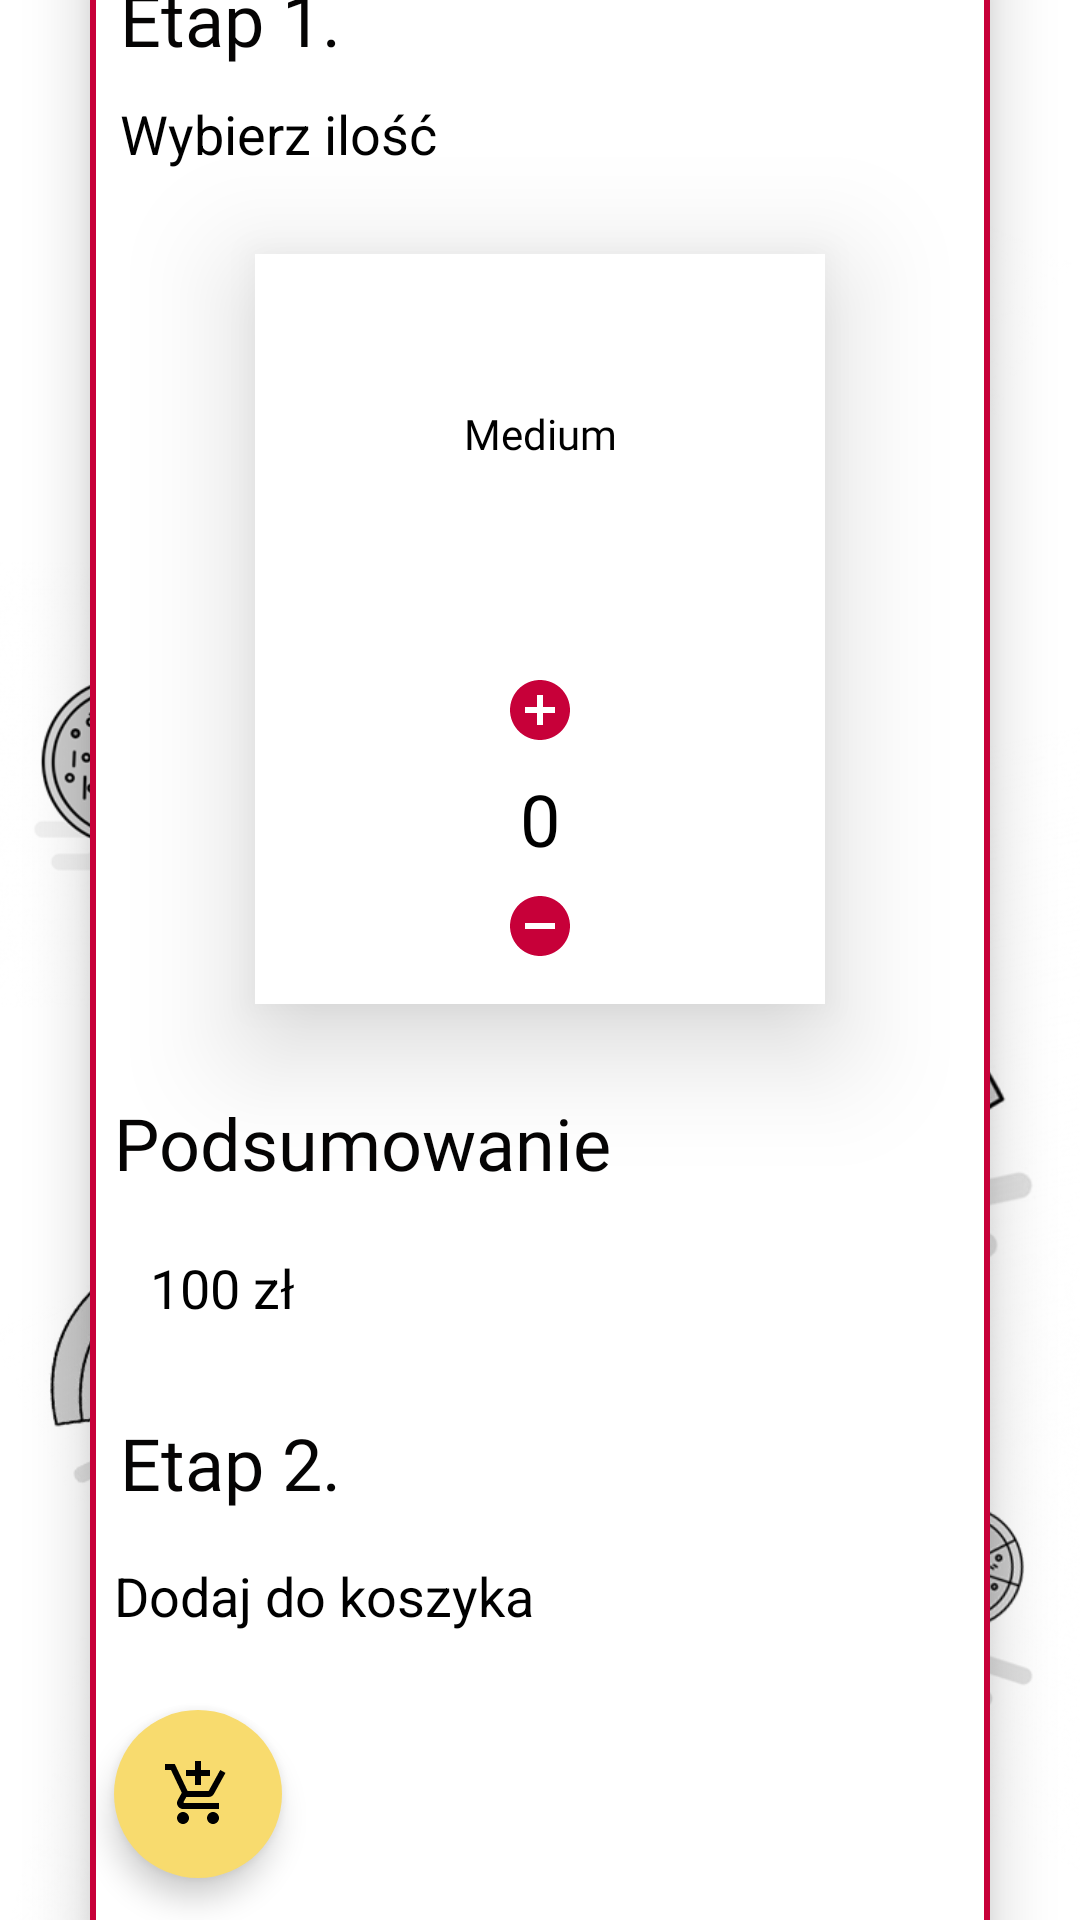

Icons on this 1080w x 1920h Android screen, each with its box as (x1, y1, x2, y2):
add cart: (114, 1710, 282, 1878)
